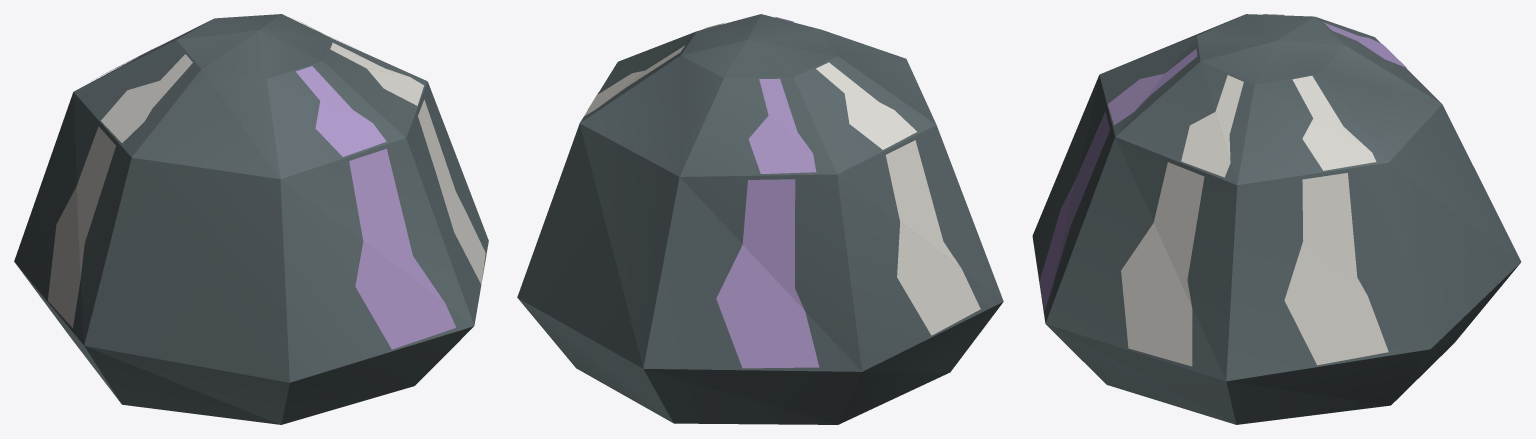
Rendered from rock_quartz.glb.
3 views of the same model, side by side, from view 1: azimuth 30°, elevation 25°; view 2: azimuth 150°, elevation 25°; view 3: azimuth 270°, elevation 25° (orthographic).
Parts seen in each view (by area): view 1: Body; view 2: Body; view 3: Body.
Boxes of the visible parts, left/top/right/bottom form: Body: left=14, top=14, right=488, bottom=424; Body: left=517, top=14, right=1003, bottom=424; Body: left=1032, top=14, right=1521, bottom=424.
Size of the model in its own units: 0.8885 by 0.63 by 0.9003.
